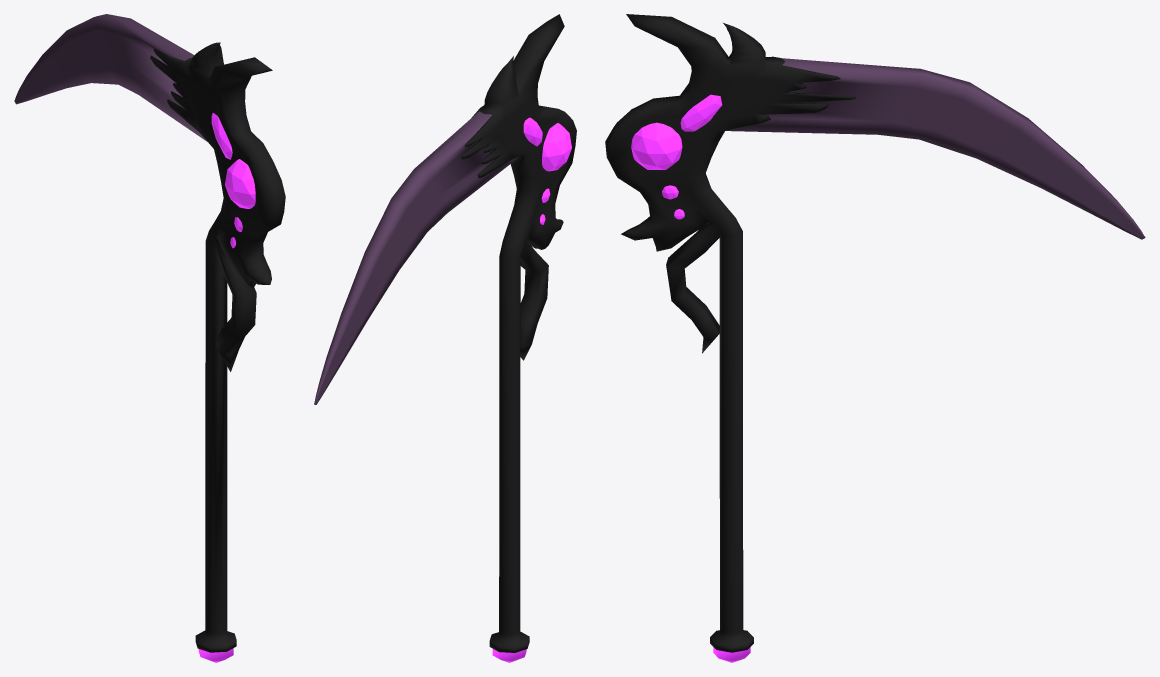
3 renders of one model, left to right at view 1: azimuth 30°, elevation 25°; view 2: azimuth 150°, elevation 25°; view 3: azimuth 270°, elevation 25°, orthographic. The views are drawn at different scales.
Visible parts, largest first — view 1: 平面.001, 平面.002; view 2: 平面.001, 平面.002; view 3: 平面.001, 平面.002.
Boxes of the visible parts, x1=… form: 平面.001: x1=14, y1=14, x2=285, y2=662; 平面.002: x1=211, y1=113, x2=255, y2=248; 平面.001: x1=314, y1=14, x2=576, y2=662; 平面.002: x1=523, y1=117, x2=571, y2=224; 平面.001: x1=605, y1=14, x2=1145, y2=662; 平面.002: x1=631, y1=94, x2=722, y2=219.
Size of the model in its own units: 157 by 2008 by 1516.
